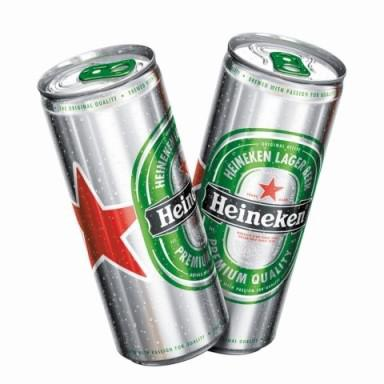beer: (37, 32, 343, 366)
